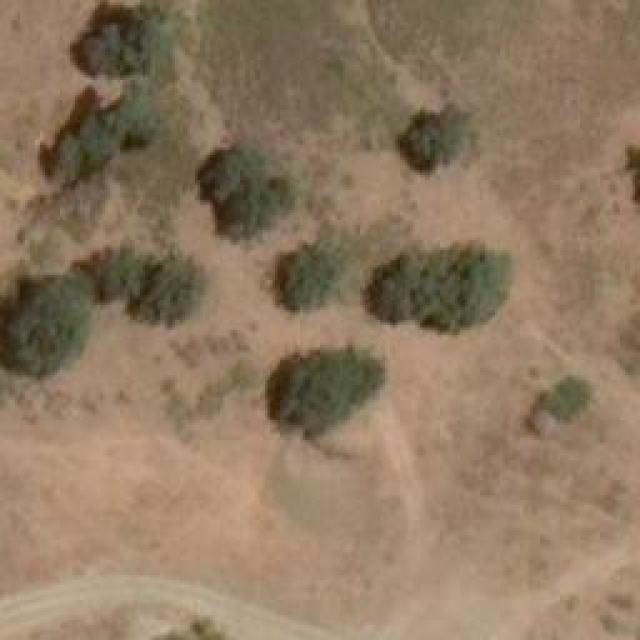Tree: (268, 343, 381, 443), (202, 145, 290, 245), (0, 278, 88, 373), (365, 243, 448, 326), (428, 245, 508, 330), (275, 243, 343, 313), (140, 257, 200, 325), (108, 88, 168, 151), (408, 107, 473, 165), (75, 245, 143, 300), (67, 25, 125, 80), (540, 370, 593, 423), (40, 133, 88, 183)
